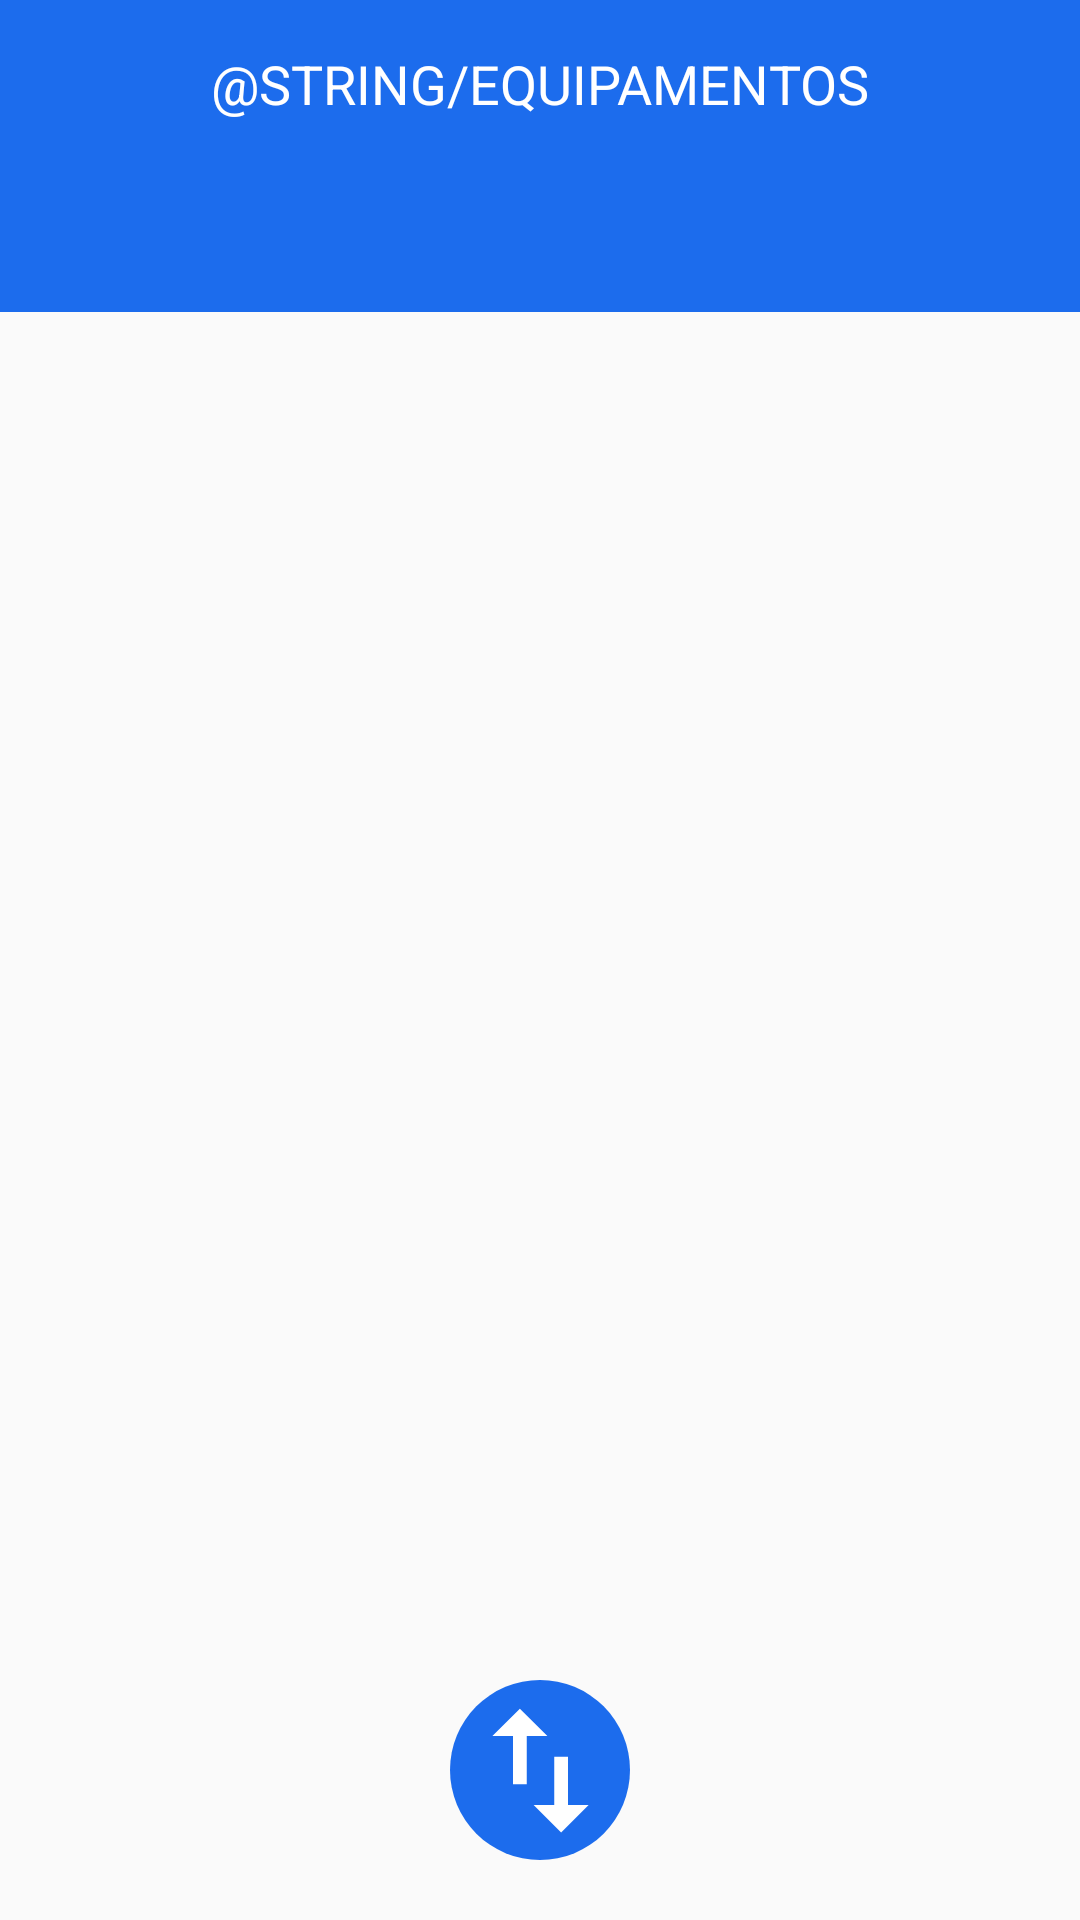

Screen size 1080 × 1920. Icon name, then its center in pixels as point (x, y):
import export: point (540, 1770)
